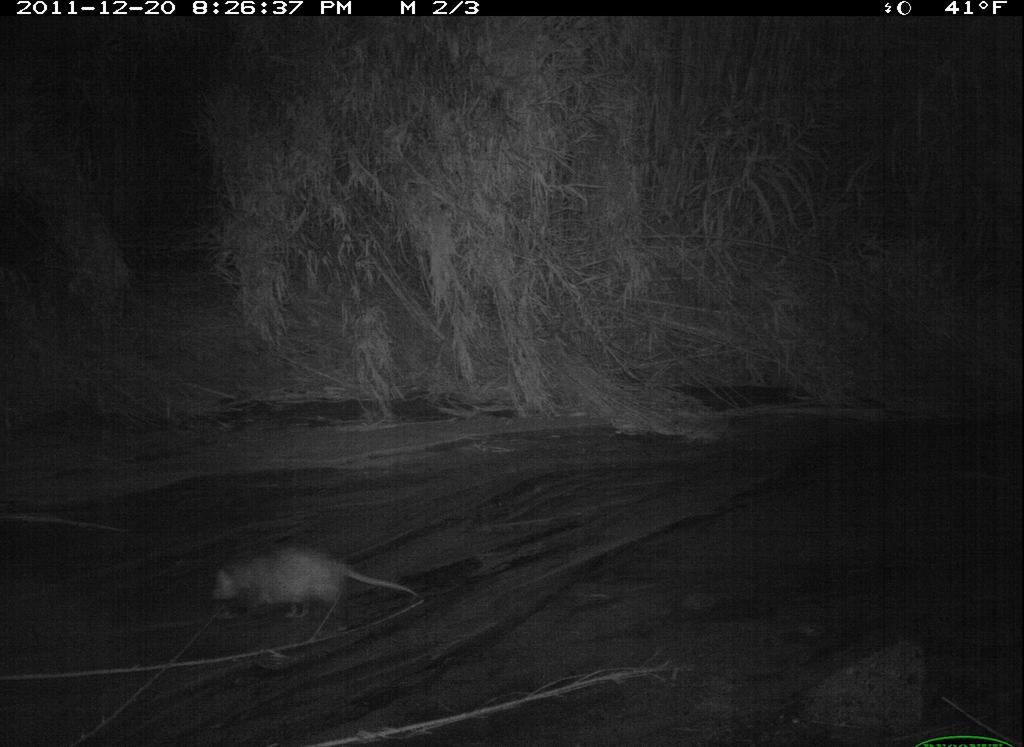opossum: (198, 534, 431, 635)
